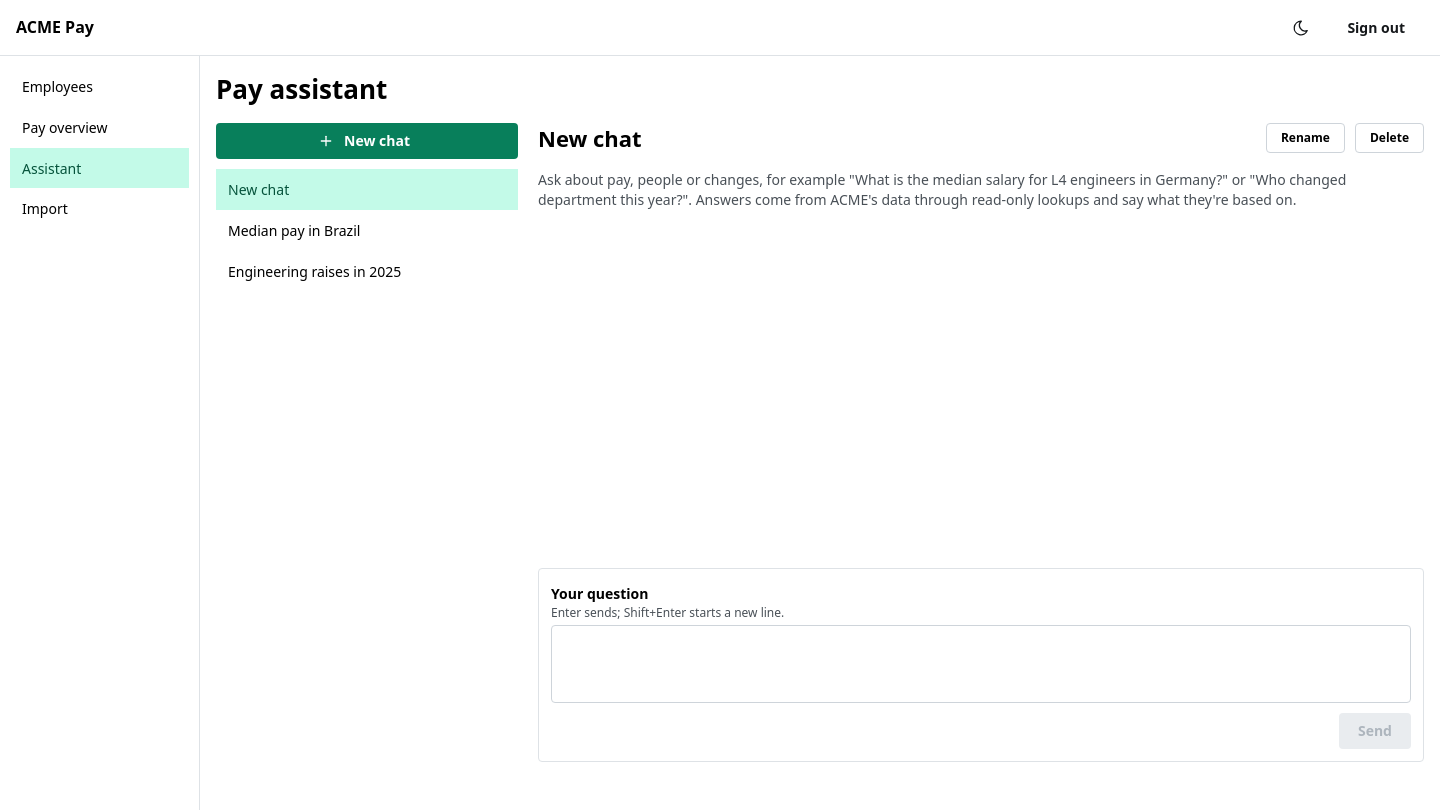
it: the first question names the chat
The image size is (1440, 810).
expect the heading "New chat" is shown: met, box [538,123,642,154]
In the text box labelled "Your question": (981, 664) [551,625,1411,703], type "What is the median pay in Brazil?"
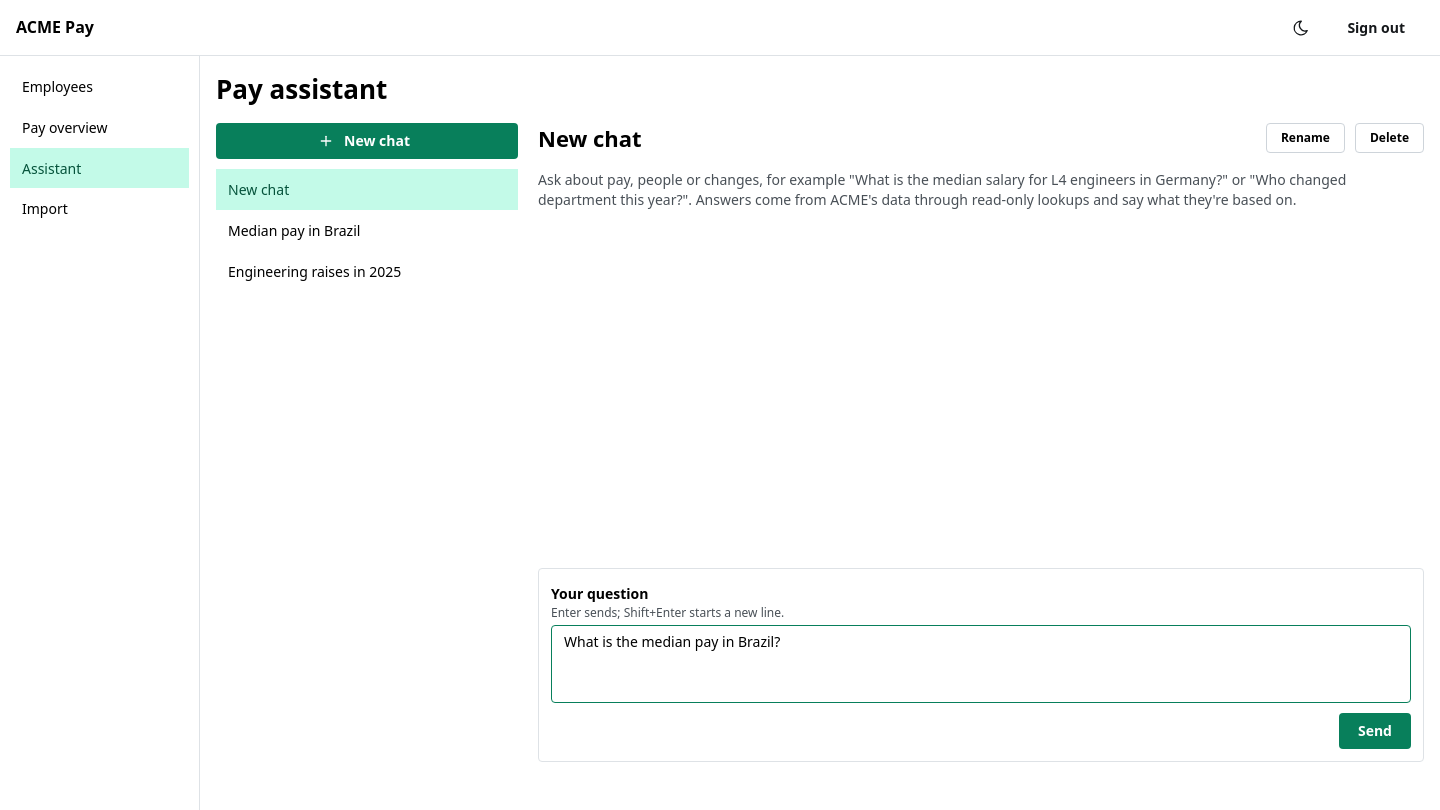
Click the button "Send": click(1375, 731) [1339,713,1411,749]
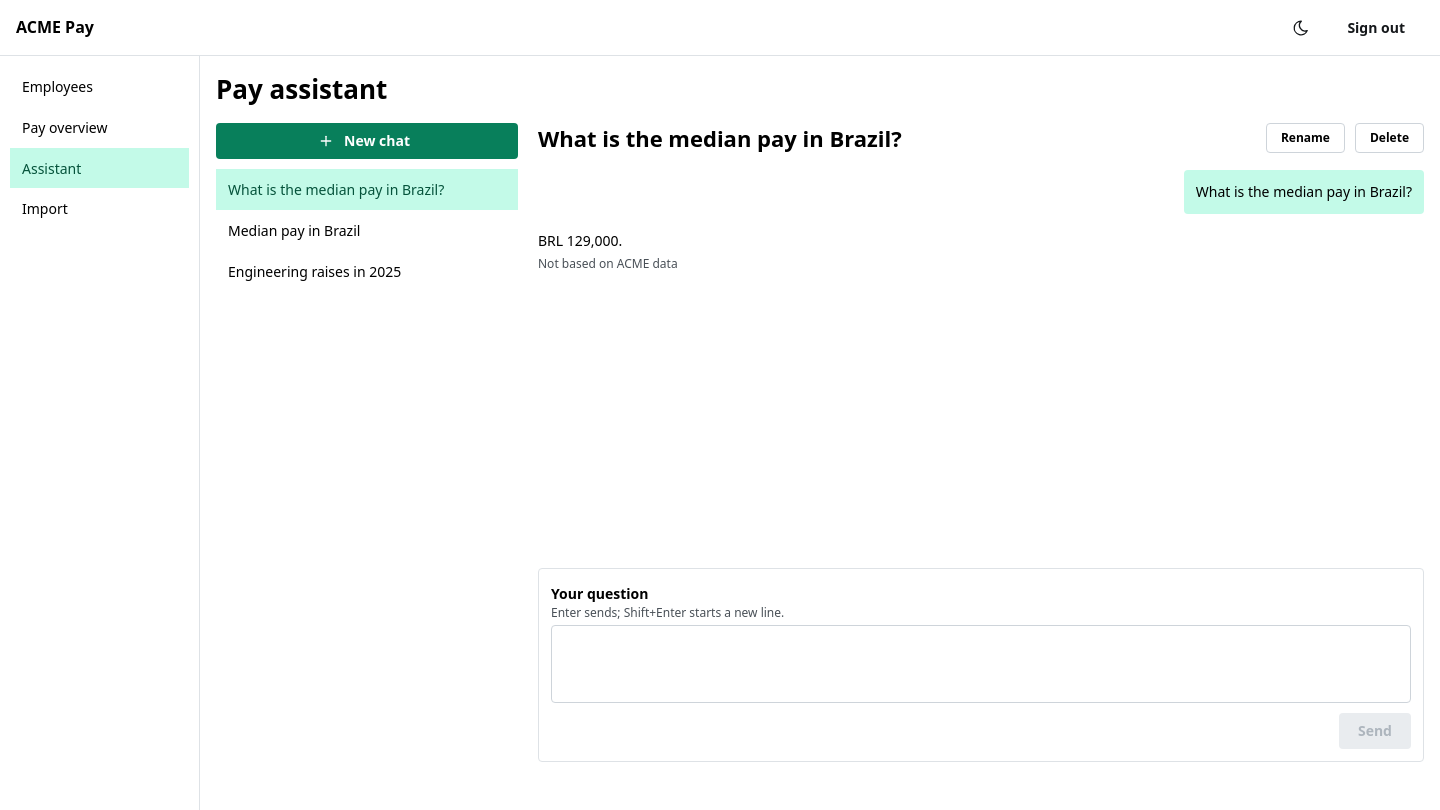
expect the heading "What is the median pay in Brazil?" is shown: met, box [538,123,902,154]
